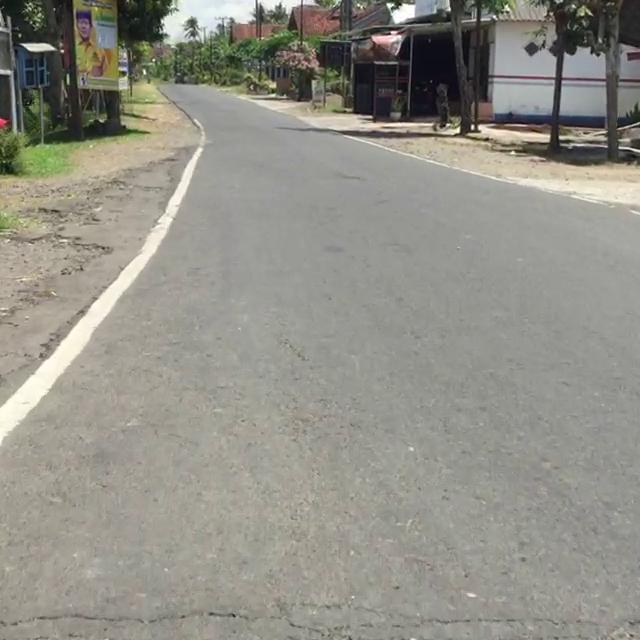retak_memanjang: (0, 584, 640, 640)
